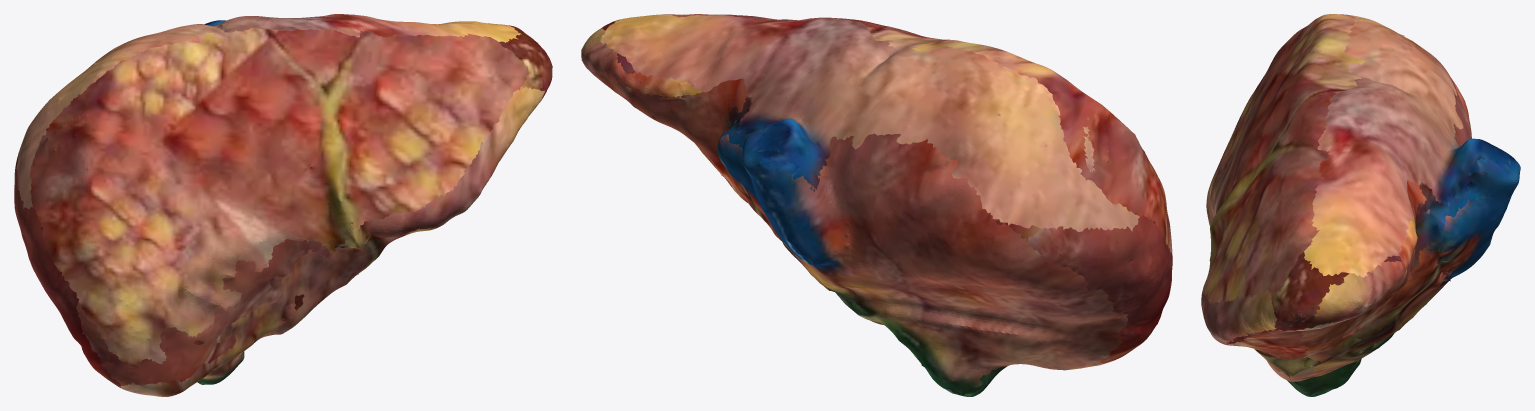
File: early-fatty-liver.glb
The picture shows the model from 3 angles, left to right: view 1: azimuth 30°, elevation 25°; view 2: azimuth 150°, elevation 25°; view 3: azimuth 270°, elevation 25°; orthographic projection. The views are drawn at different scales.
Parts seen in each view (by area): view 1: fattyliver; view 2: fattyliver; view 3: fattyliver.
Boxes of the visible parts, x1=… form: fattyliver: x1=14, y1=14, x2=552, y2=396; fattyliver: x1=581, y1=14, x2=1172, y2=396; fattyliver: x1=1201, y1=14, x2=1520, y2=396.
Size of the model in its own units: 0.2241 by 0.1385 by 0.1147.
1 material, 1 textured.
